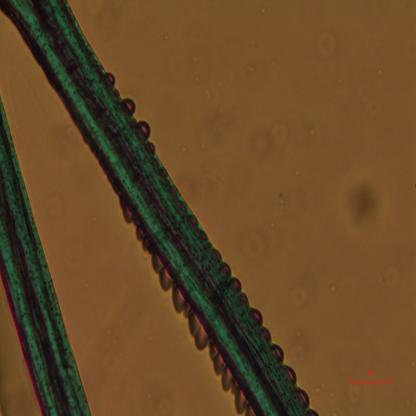Air bubble: (205, 348, 234, 394), (184, 314, 208, 354), (150, 254, 174, 293), (235, 390, 253, 415), (170, 291, 186, 316), (138, 116, 151, 138), (124, 96, 135, 114)
Background material: (239, 104, 296, 170), (341, 168, 386, 231), (232, 212, 268, 260), (311, 25, 340, 60), (381, 264, 398, 291)
Microfibre: (1, 0, 310, 413), (0, 94, 91, 414)
